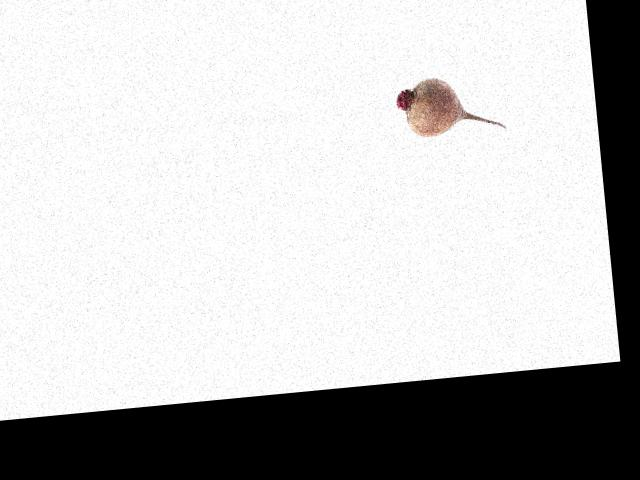beet: (394, 70, 505, 139)
